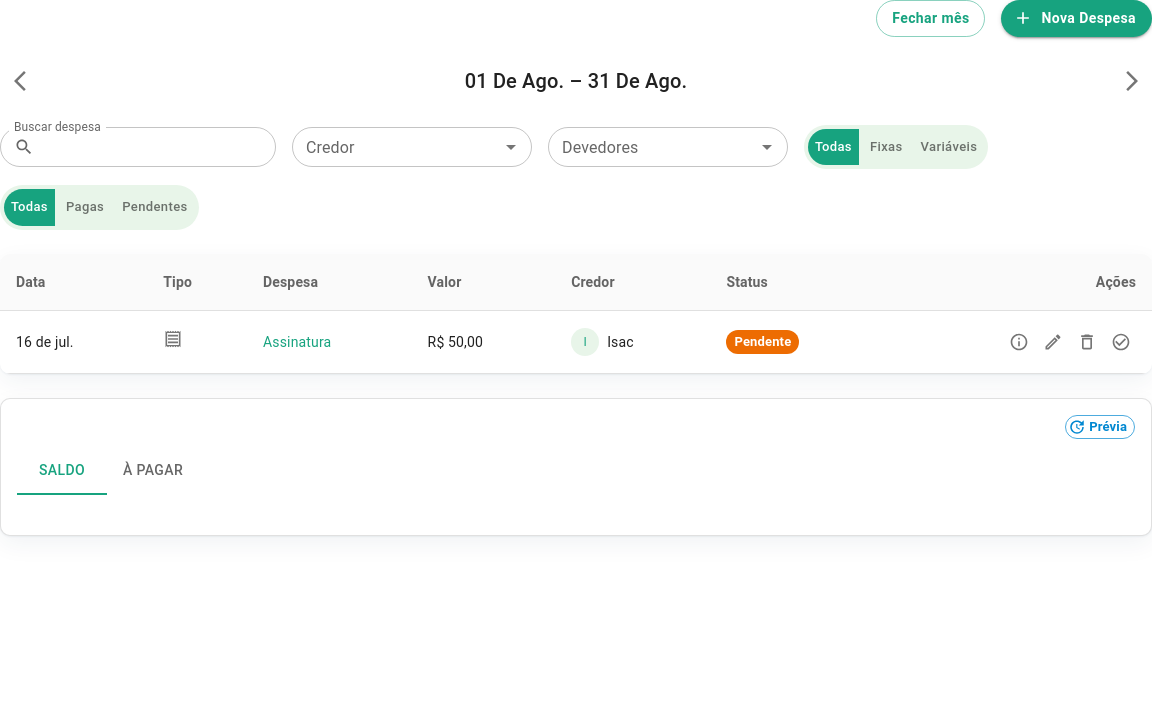
Test case: ExpenseManager - listagem em cards › displays the expense date in the details modal without an off-by-one-day shift in negative timezones
Check: the link "Assinatura" is shown, box [263,334,331,350]
Click the button named "Ver detalhes": point(1019, 342) [1004,327,1034,357]
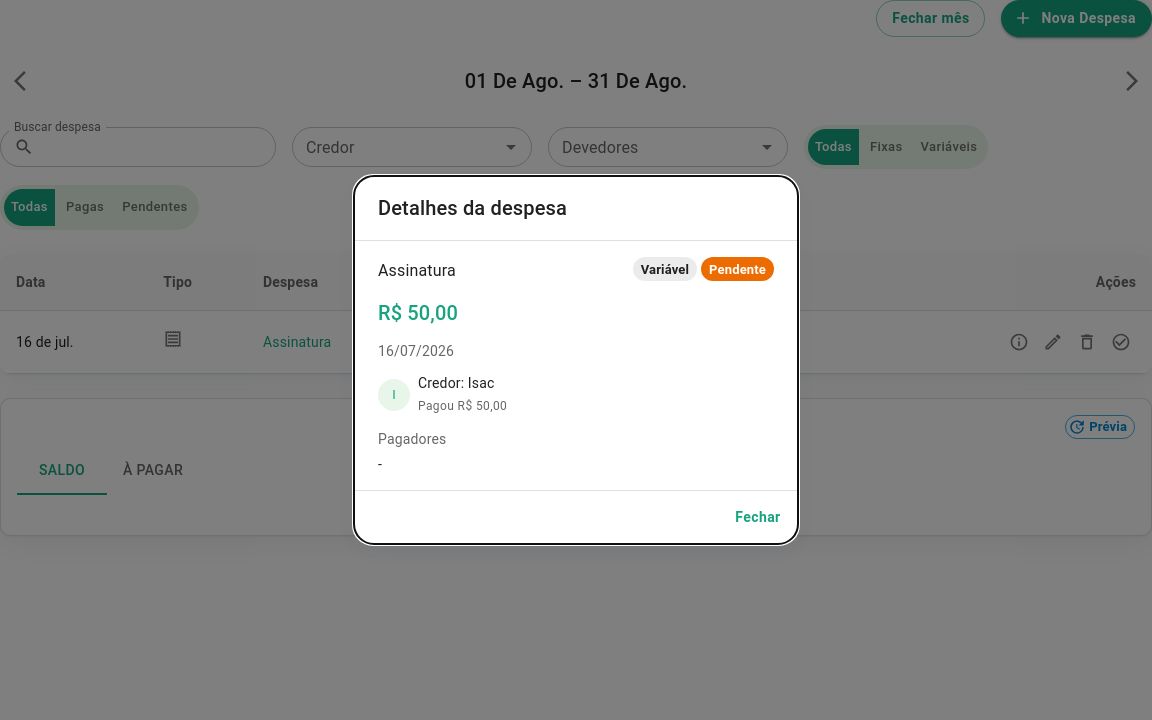
Check: the text "16/07/2026" is shown, box [378,343,454,359]
